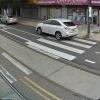Crosswalk: (4, 37, 86, 92)
